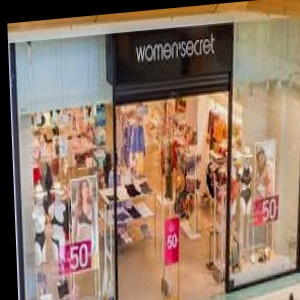women_secret: (154, 13, 277, 55)
